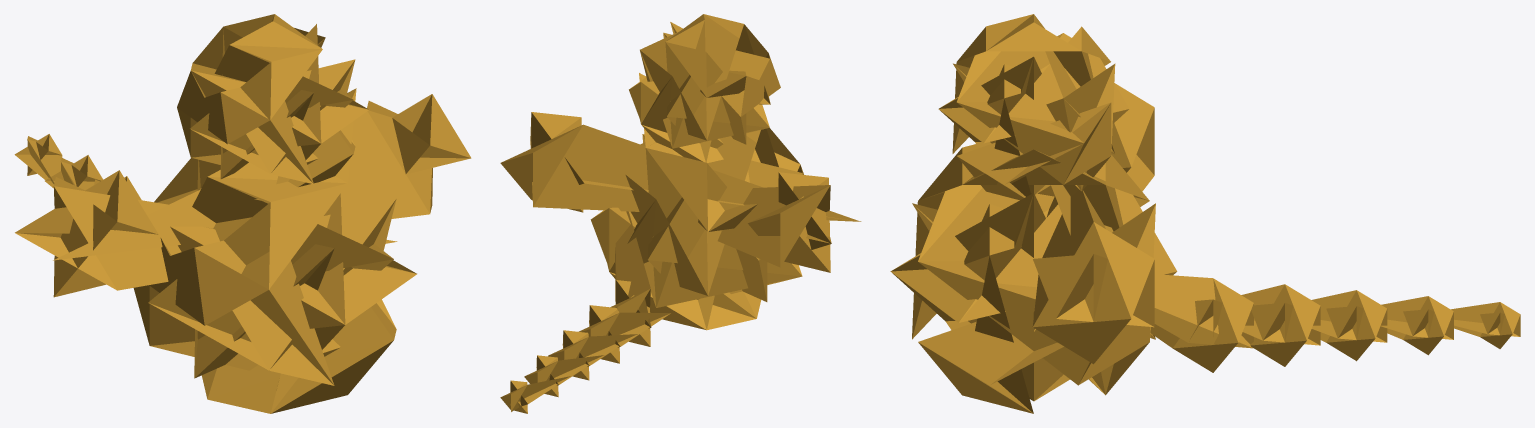
Rendered from chimera_alpha.obj.
3 renders of one model, left to right at view 1: azimuth 30°, elevation 25°; view 2: azimuth 150°, elevation 25°; view 3: azimuth 270°, elevation 25°, orthographic. The views are drawn at different scales.
Parts seen in each view (by area): view 1: chimera_alpha; view 2: chimera_alpha; view 3: chimera_alpha.
Boxes of the visible parts, x1,y1,x2,y2 form: chimera_alpha: (14, 14, 471, 413); chimera_alpha: (500, 14, 861, 413); chimera_alpha: (890, 14, 1520, 413).
Size of the model in its own units: 4.02 by 3.5 by 5.27.
